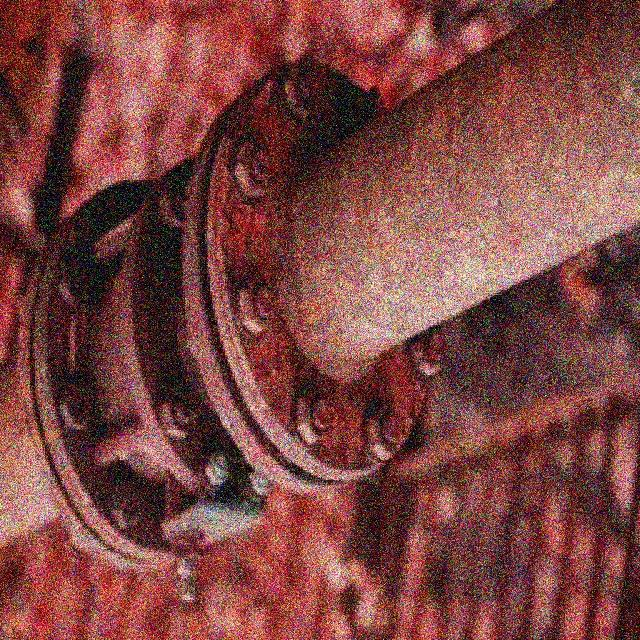rust: (1, 1, 639, 602)
